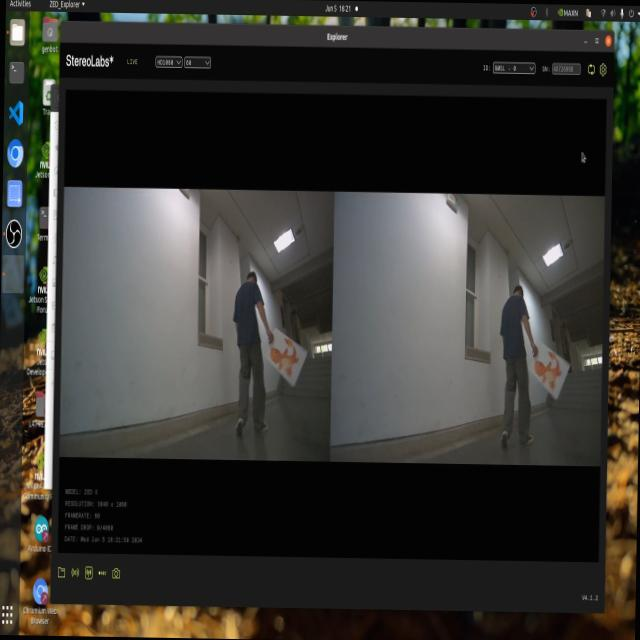red: (266, 330, 304, 379), (530, 346, 564, 393)
